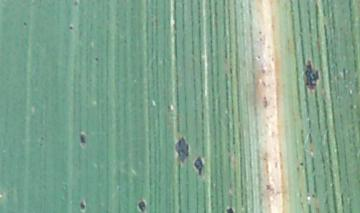tarspot: (302, 58, 320, 91), (173, 135, 191, 163), (193, 154, 206, 176), (136, 199, 149, 213), (76, 131, 88, 145), (259, 78, 271, 90), (78, 198, 87, 213), (264, 182, 274, 194), (261, 93, 268, 108), (224, 206, 236, 213), (66, 24, 76, 31), (21, 20, 28, 28), (259, 67, 266, 75), (257, 29, 264, 36), (93, 55, 99, 63), (254, 54, 262, 60), (298, 159, 304, 166), (72, 1, 78, 8), (310, 192, 316, 199)
